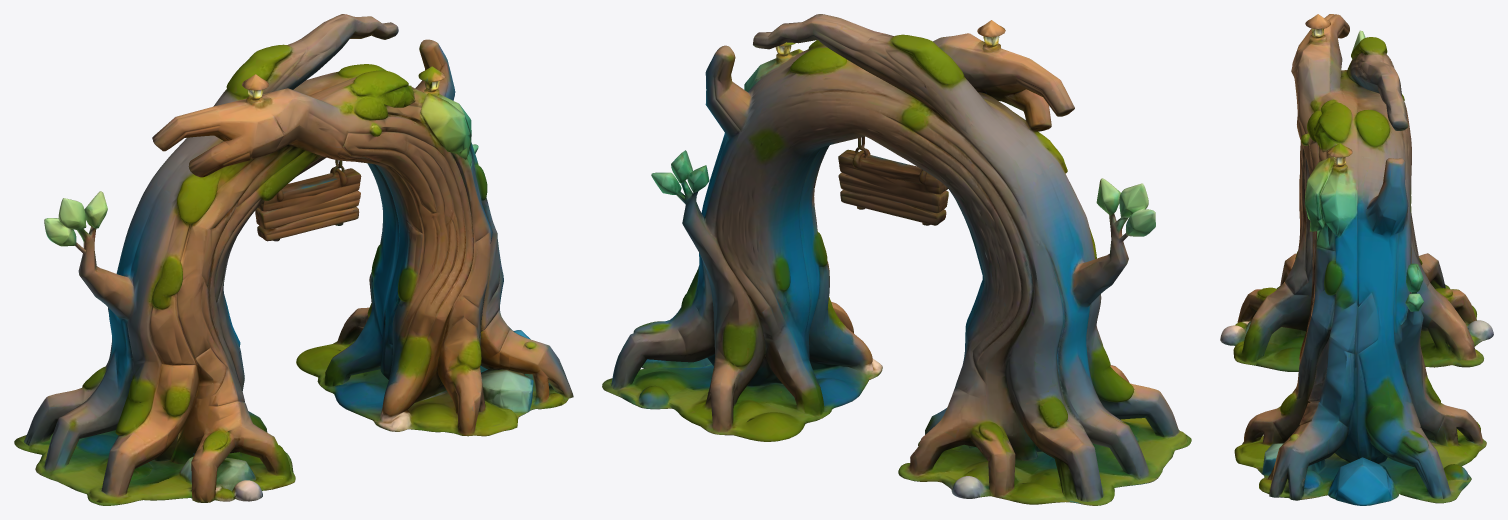
Rendered from root-gate.glb.
The picture shows the model from 3 angles, left to right: view 1: azimuth 30°, elevation 25°; view 2: azimuth 150°, elevation 25°; view 3: azimuth 270°, elevation 25°; orthographic projection. The views are drawn at different scales.
Visible parts, largest first — view 1: node_0; view 2: node_0; view 3: node_0.
Boxes of the visible parts, box(x1,y1,x2,y2) form: node_0: box(14, 14, 573, 505); node_0: box(602, 14, 1191, 505); node_0: box(1220, 14, 1493, 505).
Size of the model in its own units: 0.9605 by 0.6859 by 0.4865.
Materials: 1 (1 with a texture image).
